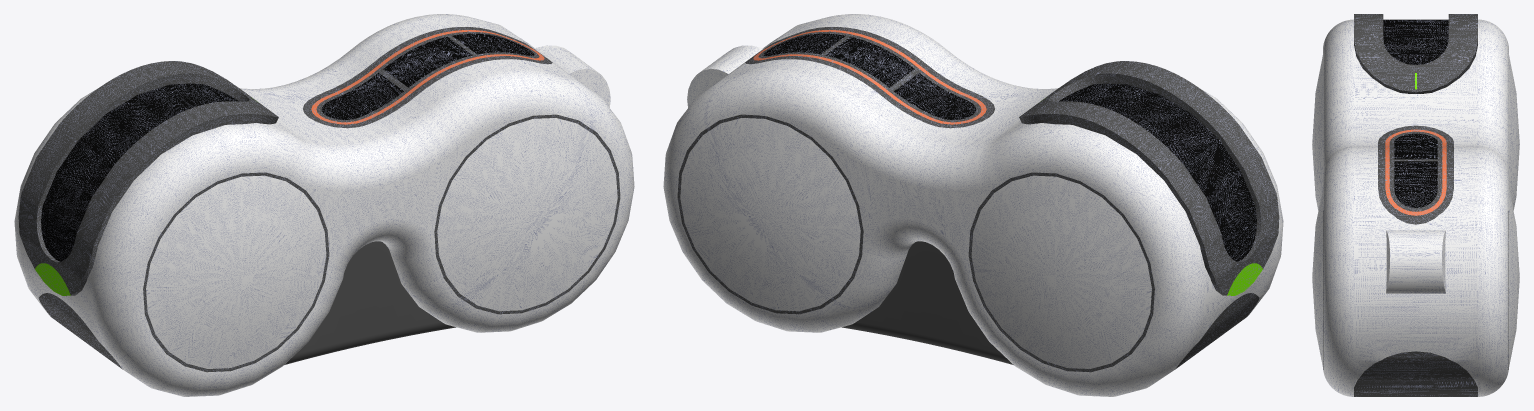
Rendered from body-aibo-ers7.dae.
3 renders of one model, left to right at view 1: azimuth 30°, elevation 25°; view 2: azimuth 150°, elevation 25°; view 3: azimuth 270°, elevation 25°, orthographic. The views are drawn at different scales.
Parts seen in each view (by area): view 1: group_0 (×11), group_2, group_1, group_7 (×2), group_6, group_5; view 2: group_0 (×11), group_3, group_4, group_7 (×2), group_6, group_5; view 3: group_0 (×9), group_7, group_5, group_2, group_3, group_1, group_4.
Part boxes in pixels (<box>): group_0 (×11): <box>14,14,634,396</box>; group_2: <box>437,118,617,311</box>; group_1: <box>146,175,326,368</box>; group_7 (×2): <box>18,61,278,295</box>; group_6: <box>284,241,455,364</box>; group_5: <box>535,45,610,107</box>; group_0 (×11): <box>663,14,1283,396</box>; group_3: <box>680,118,860,311</box>; group_4: <box>971,175,1151,368</box>; group_7 (×2): <box>1019,61,1279,295</box>; group_6: <box>842,241,1013,364</box>; group_5: <box>687,45,762,107</box>; group_0 (×9): <box>1323,19,1508,396</box>; group_7: <box>1354,14,1477,93</box>; group_5: <box>1386,230,1445,293</box>; group_2: <box>1312,189,1322,366</box>; group_3: <box>1509,189,1519,366</box>; group_1: <box>1312,55,1322,210</box>; group_4: <box>1509,55,1519,210</box>.
Size of the model in its own units: 72.76 by 28.1 by 35.87.
